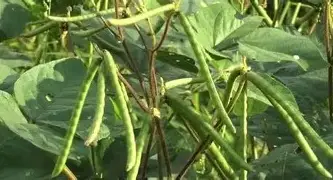crops: (0, 2, 327, 180)
